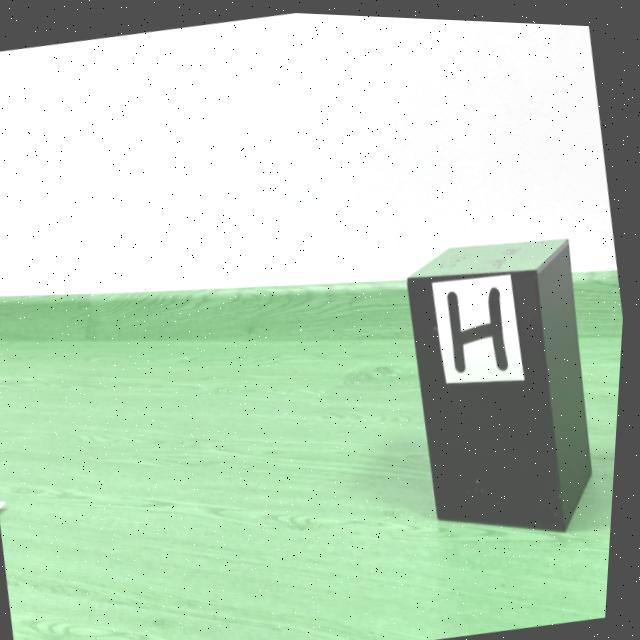H: (450, 282, 512, 368)
